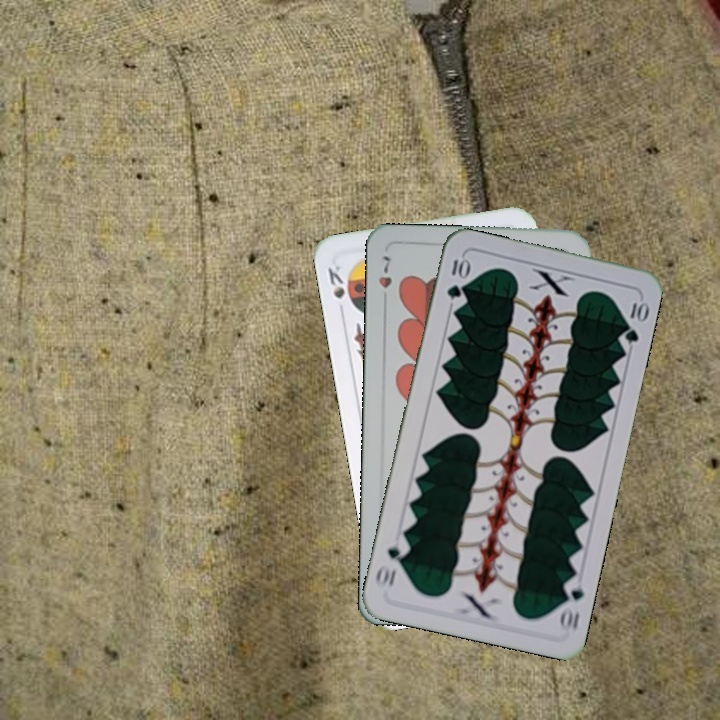G10: (555, 574, 587, 634), (443, 252, 471, 303)
H7: (374, 252, 395, 308)
SK: (324, 261, 347, 318)
